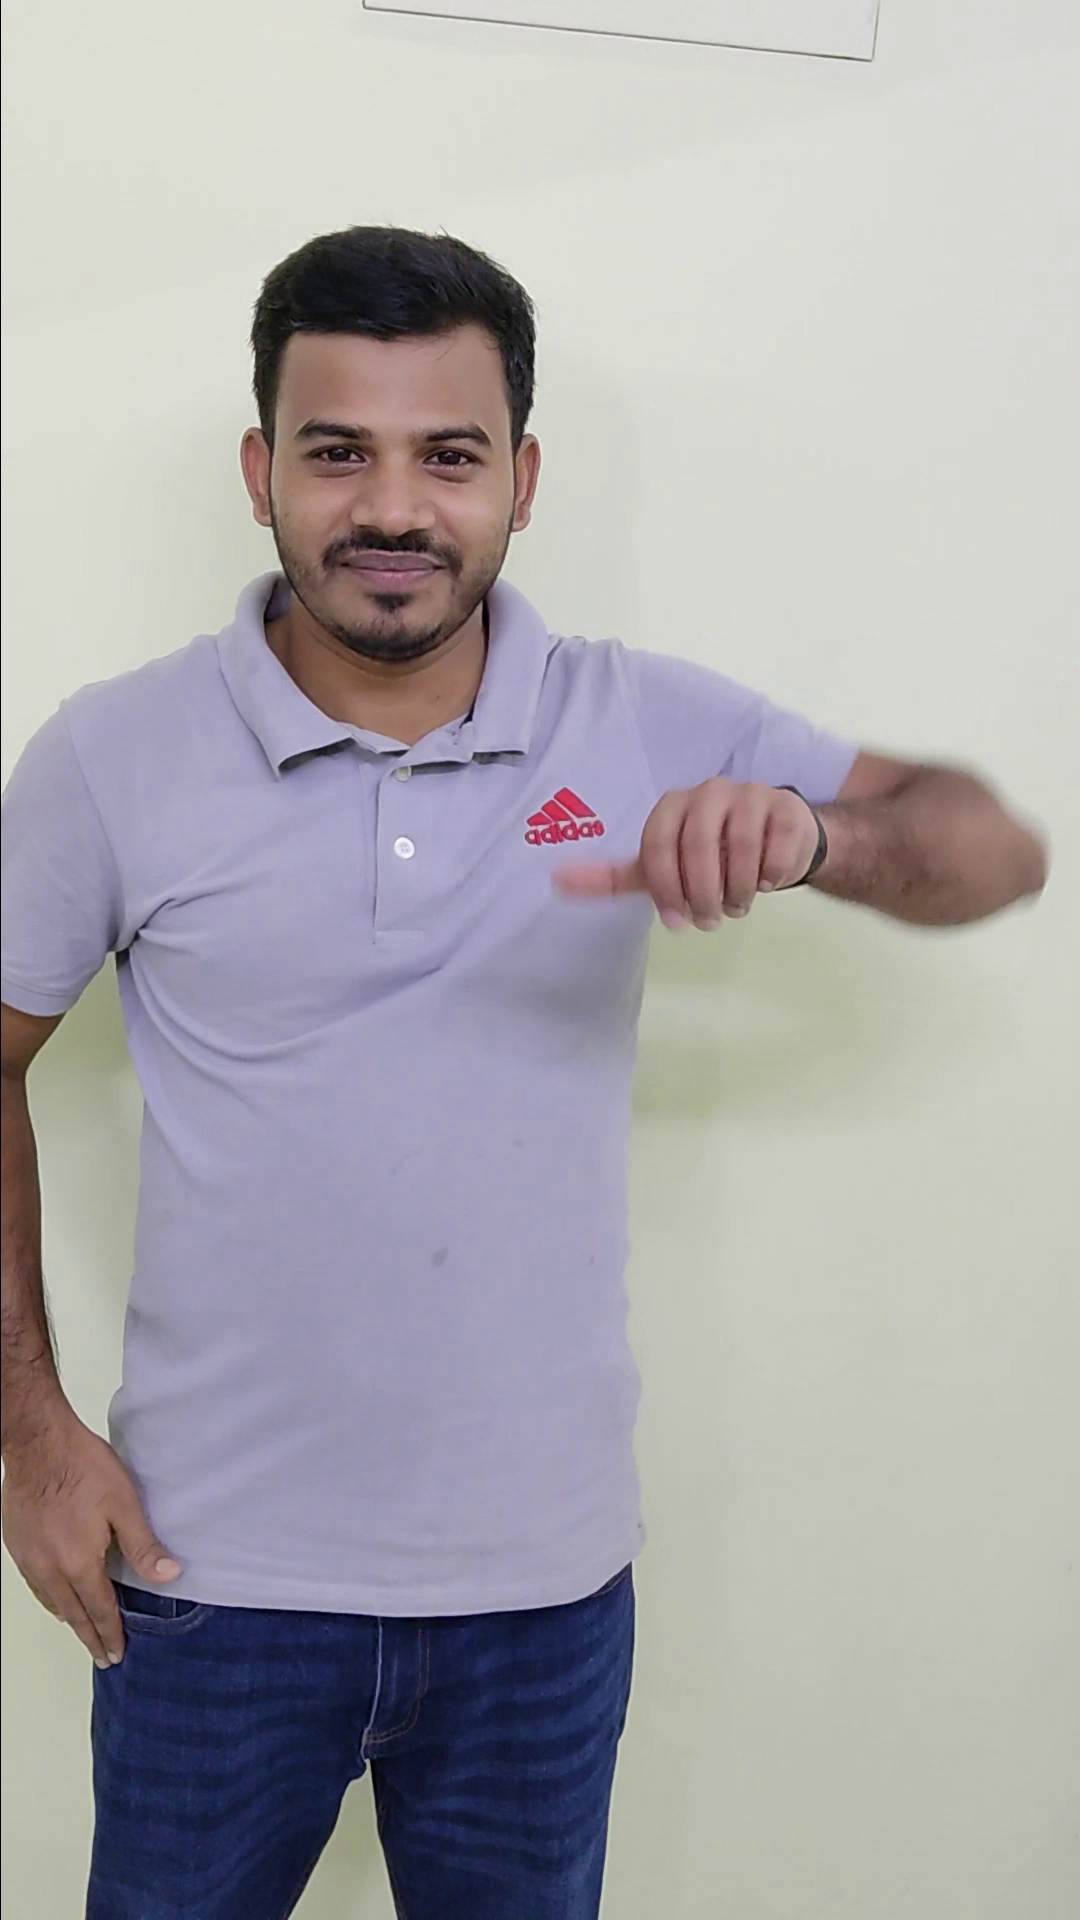Like: (518, 752, 847, 945)
None: (4, 1383, 198, 1673)
